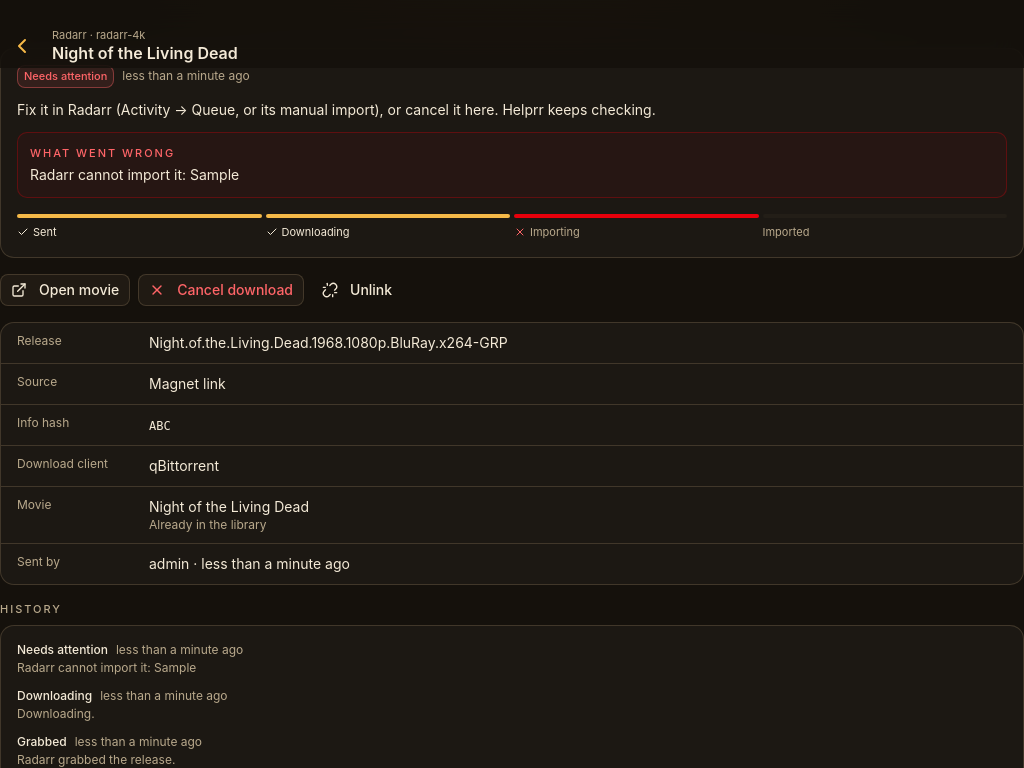
Test: a linked download › offers only what the user may do
The image size is (1024, 768).
Click the button "Cancel download" at (221, 290), box [138,274,304,306]
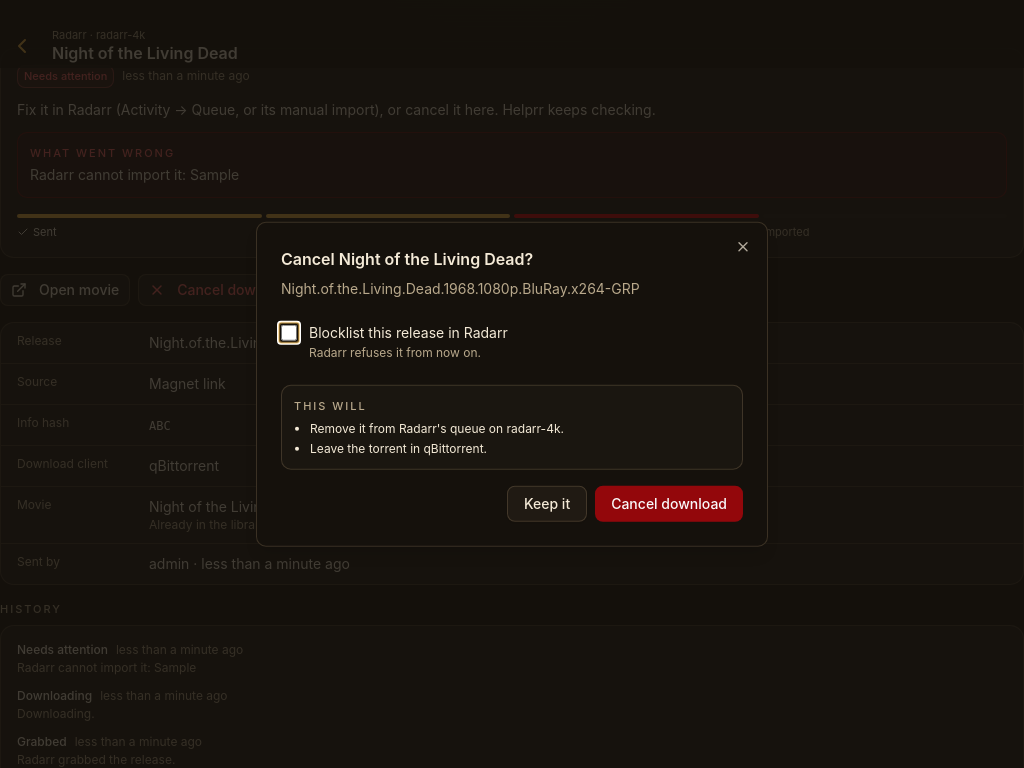
Now the list item "Leave the torrent in qBittorrent." is shown, box [310,440,487,455]
